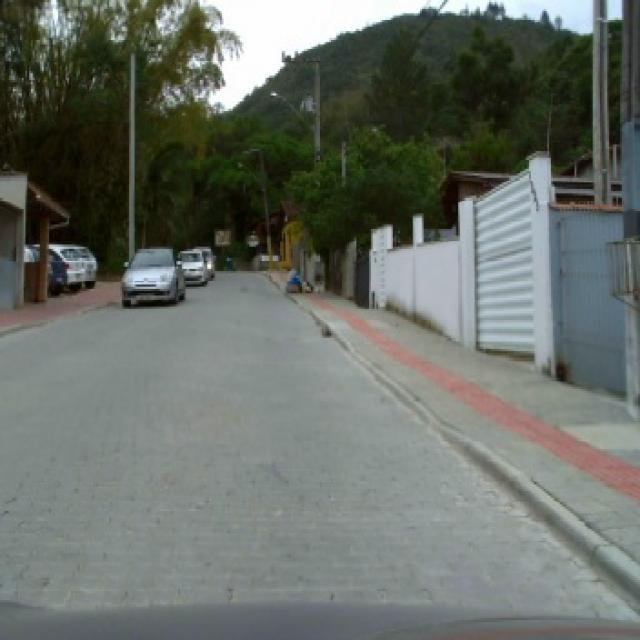Poth-hole: (320, 322, 331, 336)
